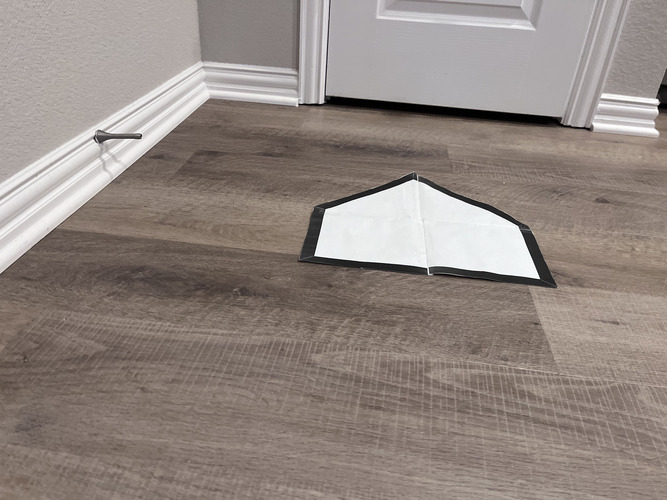homeplate: (297, 172, 555, 288)
